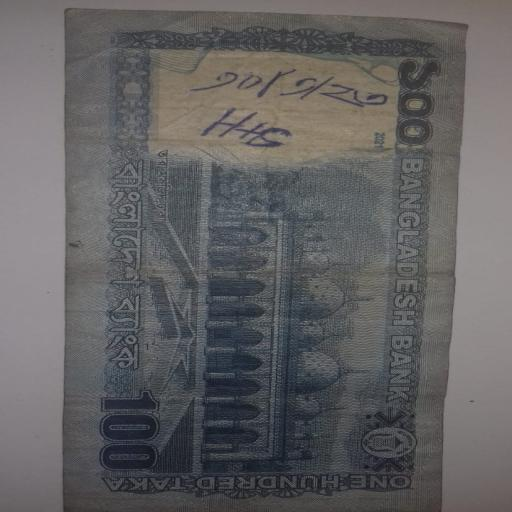100taka: (57, 0, 468, 512)
